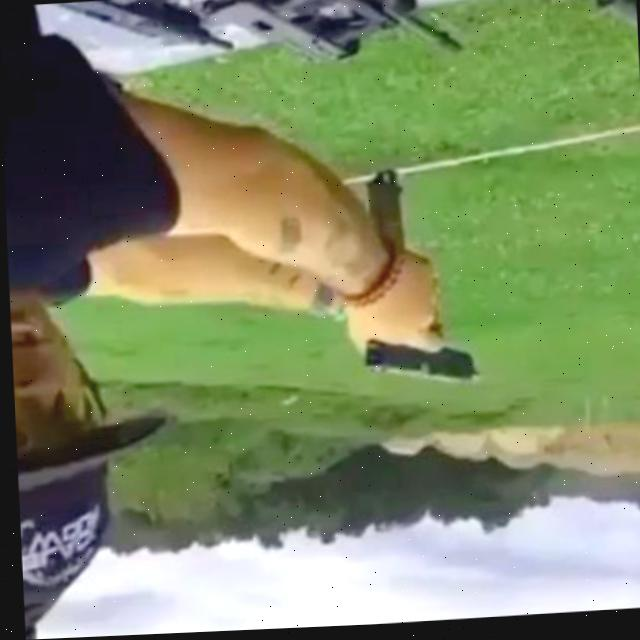pistol: (311, 220, 506, 423)
